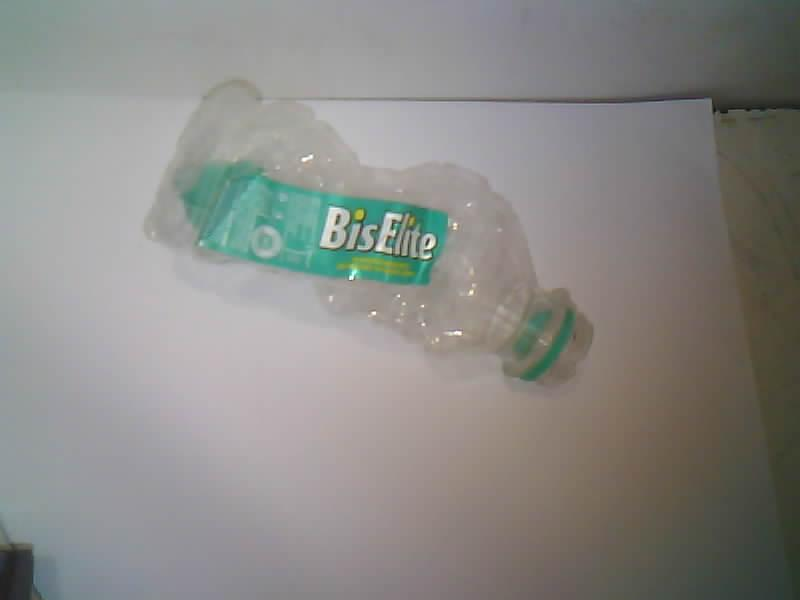non-biodegradable: (148, 82, 591, 384)
